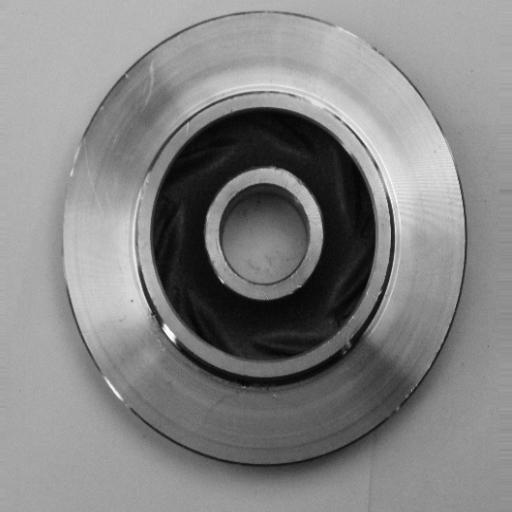scratch: (147, 305, 197, 353), (305, 86, 357, 127), (132, 162, 153, 256)
unpolished_casting: (60, 6, 467, 469)
